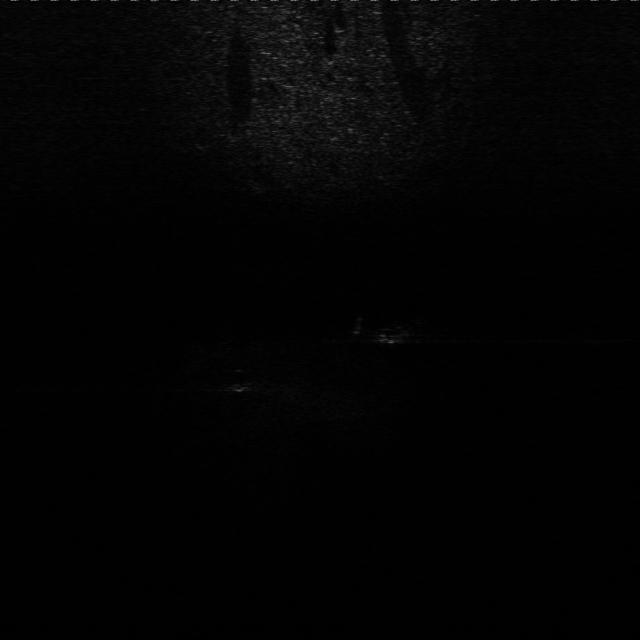ball: (218, 364, 263, 394)
human body: (348, 315, 421, 344)
